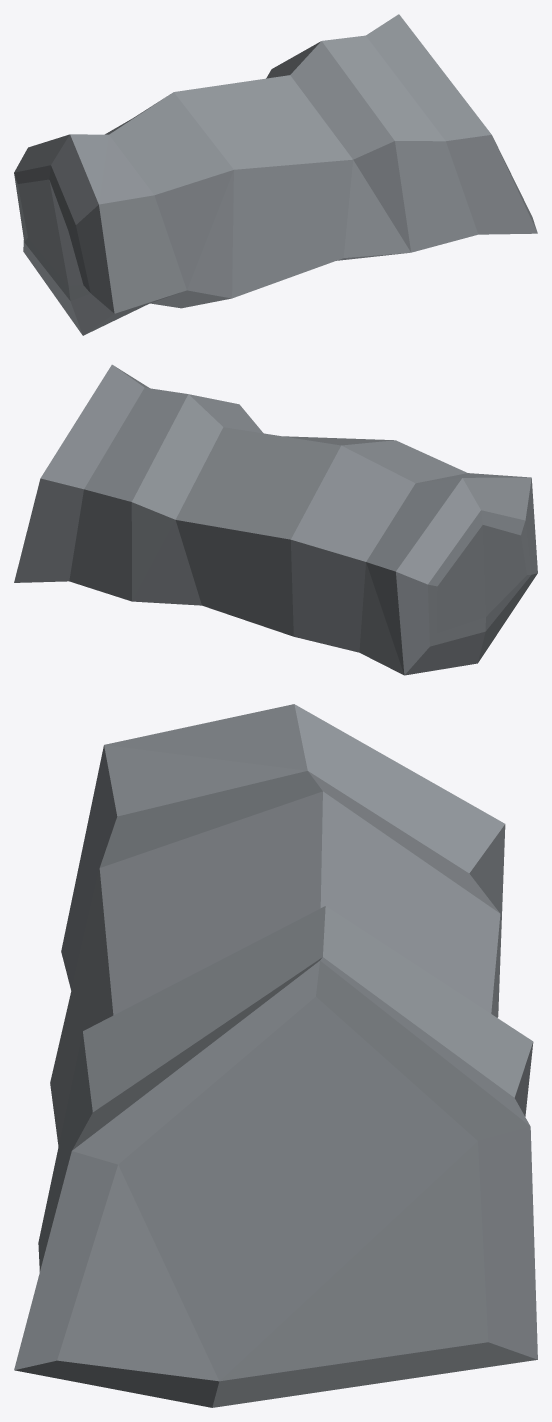
File: Chr_ArmUpperRight_Male_14_Static.fbx
3 renders of one model, top to bottom at view 1: azimuth 30°, elevation 25°; view 2: azimuth 150°, elevation 25°; view 3: azimuth 270°, elevation 25°, orthographic. The views are drawn at different scales.
Parts seen in each view (by area): view 1: Chr_ArmUpperRight_Male_14_Static; view 2: Chr_ArmUpperRight_Male_14_Static; view 3: Chr_ArmUpperRight_Male_14_Static.
Part boxes in pixels (box(x1,y1,x2,y2)): Chr_ArmUpperRight_Male_14_Static: box(14, 14, 537, 335); Chr_ArmUpperRight_Male_14_Static: box(14, 364, 537, 675); Chr_ArmUpperRight_Male_14_Static: box(14, 704, 537, 1407).
Size of the model in its own units: 0.3255 by 0.1625 by 0.1736.
